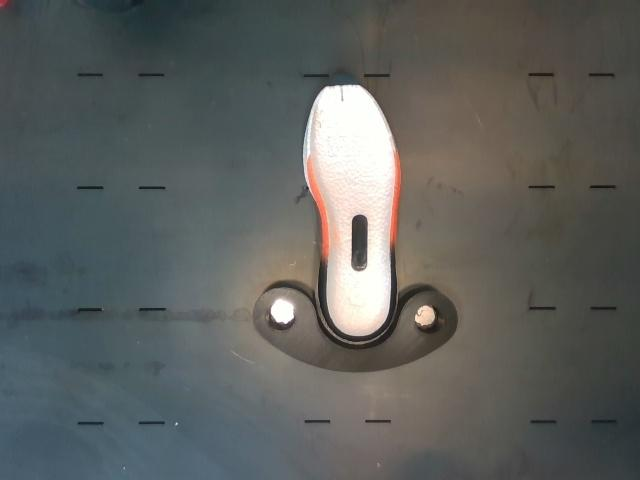shoes: (306, 72, 399, 343)
